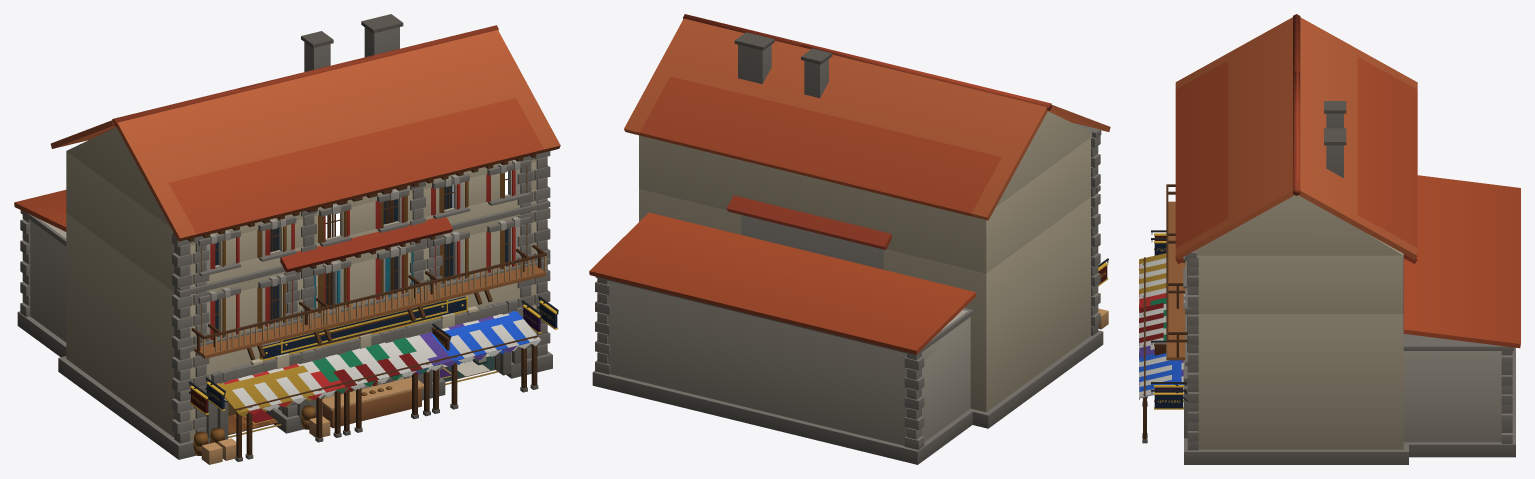
The model's file is plaza_shops_low.glb.
3 views of the same model, side by side, from view 1: azimuth 30°, elevation 25°; view 2: azimuth 150°, elevation 25°; view 3: azimuth 270°, elevation 25° (orthographic). The views are drawn at different scales.
Parts seen in each view (by area): view 1: ship_store_LOD1, ship_store_LOD2, shop_clothes_LOD2, shop_clothes_LOD1, shop_pets_LOD1, house_e_LOD1, shop_pets_LOD2; view 2: shop_clothes_LOD2, ship_store_LOD1, shop_clothes_LOD1, ship_store_LOD2, shop_pets_LOD2, house_e_LOD1; view 3: ship_store_LOD1, shop_clothes_LOD2, ship_store_LOD2, shop_clothes_LOD1, shop_pets_LOD1, house_e_LOD1.
Boxes of the visible parts, bbox=[...] form: ship_store_LOD1: bbox=[51, 14, 558, 464]; ship_store_LOD2: bbox=[51, 15, 560, 459]; shop_clothes_LOD2: bbox=[17, 21, 543, 455]; shop_clothes_LOD1: bbox=[14, 19, 542, 460]; shop_pets_LOD1: bbox=[266, 229, 452, 437]; house_e_LOD1: bbox=[238, 31, 425, 429]; shop_pets_LOD2: bbox=[280, 217, 452, 433]; shop_clothes_LOD2: bbox=[589, 39, 1001, 464]; ship_store_LOD1: bbox=[624, 14, 1110, 428]; shop_clothes_LOD1: bbox=[589, 18, 1087, 451]; ship_store_LOD2: bbox=[683, 15, 1109, 427]; shop_pets_LOD2: bbox=[727, 195, 891, 269]; house_e_LOD1: bbox=[743, 45, 929, 188]; ship_store_LOD1: bbox=[1139, 14, 1417, 464]; shop_clothes_LOD2: bbox=[1139, 57, 1515, 457]; ship_store_LOD2: bbox=[1140, 14, 1416, 464]; shop_clothes_LOD1: bbox=[1139, 22, 1520, 444]; shop_pets_LOD1: bbox=[1142, 233, 1185, 398]; house_e_LOD1: bbox=[1168, 70, 1346, 290].
Bounding box in the file's own units: 23.1 × 17.86 × 21.39.
